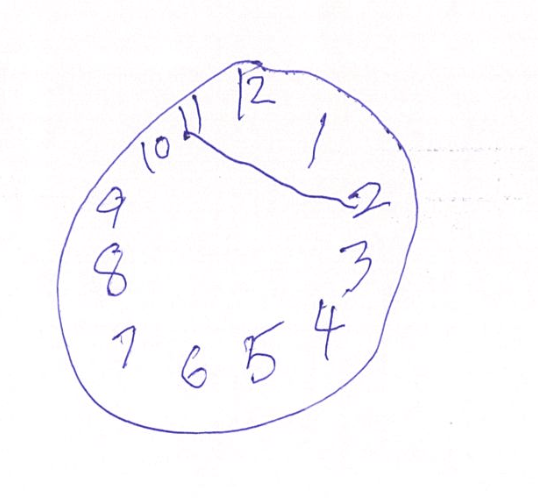1: (304, 111, 331, 172)
10: (138, 133, 174, 173)
11: (177, 96, 206, 139)
12: (234, 69, 276, 121)
2: (347, 182, 395, 219)
3: (333, 240, 374, 297)
4: (311, 297, 347, 361)
5: (238, 319, 288, 385)
6: (178, 339, 209, 392)
7: (110, 323, 136, 368)
8: (89, 242, 129, 301)
9: (95, 186, 127, 234)
contour: (54, 55, 422, 439)
